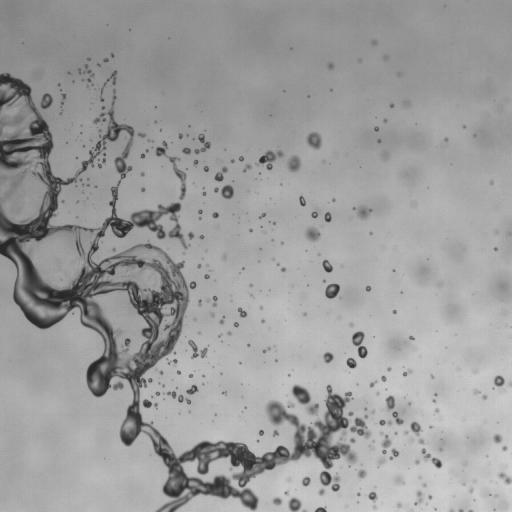droplet: (415, 448, 442, 468), (257, 150, 283, 170), (188, 340, 207, 358), (194, 134, 210, 153), (214, 185, 233, 198), (307, 132, 321, 149), (354, 206, 371, 219), (305, 227, 320, 241), (325, 283, 339, 298), (287, 155, 300, 171), (288, 497, 301, 511), (40, 93, 52, 108), (410, 421, 421, 436), (498, 472, 511, 484), (385, 395, 394, 410), (322, 260, 332, 272), (414, 491, 423, 504), (323, 352, 333, 363), (346, 357, 356, 368), (494, 375, 504, 386), (389, 448, 399, 459), (186, 385, 198, 394), (237, 307, 246, 317), (394, 475, 404, 484), (493, 434, 502, 443), (357, 469, 366, 478), (368, 492, 377, 501), (377, 456, 385, 466), (302, 476, 310, 486), (272, 497, 282, 505), (324, 212, 331, 222), (97, 159, 105, 167), (299, 196, 305, 206), (182, 147, 190, 154), (243, 164, 251, 171), (311, 210, 318, 217), (168, 359, 177, 364), (369, 381, 376, 387), (418, 437, 424, 444), (318, 488, 324, 495), (0, 175, 6, 181), (212, 212, 218, 218), (188, 232, 193, 239), (328, 63, 333, 69), (61, 92, 66, 98), (383, 152, 388, 158), (259, 213, 265, 218), (381, 375, 386, 381), (473, 389, 479, 394), (273, 430, 278, 436), (350, 438, 355, 443), (502, 446, 507, 451), (139, 133, 145, 137), (220, 317, 224, 323), (259, 429, 263, 435), (103, 58, 108, 62), (87, 78, 91, 83), (374, 126, 378, 131), (239, 156, 243, 161), (193, 160, 197, 165), (204, 166, 208, 171), (198, 209, 202, 214), (204, 274, 209, 278), (366, 286, 370, 291), (348, 411, 353, 415), (469, 487, 473, 492), (397, 502, 401, 507), (372, 40, 376, 44), (178, 134, 182, 138), (222, 255, 226, 259), (281, 267, 285, 271), (234, 322, 238, 326), (349, 323, 353, 327), (227, 331, 231, 335), (482, 395, 486, 399), (404, 430, 408, 434), (422, 483, 426, 487), (141, 153, 144, 158), (198, 300, 201, 305), (444, 137, 447, 141), (141, 172, 144, 176), (141, 188, 145, 191), (199, 235, 203, 238), (197, 264, 201, 267), (211, 312, 214, 316), (189, 373, 192, 377), (156, 392, 159, 396), (435, 408, 438, 412), (371, 410, 375, 413), (438, 448, 442, 451), (285, 491, 288, 495), (373, 505, 376, 509), (409, 439, 414, 441), (458, 509, 463, 511), (468, 509, 473, 511), (390, 104, 393, 107), (383, 119, 386, 122), (393, 310, 396, 313), (303, 312, 306, 315), (261, 319, 264, 322), (410, 336, 413, 339), (387, 367, 390, 370), (177, 371, 180, 374), (430, 375, 433, 378), (287, 478, 290, 481), (428, 495, 431, 498), (110, 54, 113, 56), (78, 70, 81, 72), (100, 98, 103, 100), (102, 106, 104, 109), (463, 125, 465, 128), (231, 159, 233, 162), (490, 181, 493, 183), (332, 199, 335, 201), (198, 217, 201, 219), (249, 229, 252, 231), (494, 247, 496, 250), (276, 263, 279, 265), (249, 284, 252, 286), (160, 371, 162, 374), (223, 391, 225, 394), (357, 493, 360, 495), (61, 102, 63, 104), (406, 103, 408, 105), (203, 193, 205, 195), (113, 248, 115, 250), (251, 295, 253, 297), (219, 334, 221, 336), (474, 371, 476, 373), (434, 393, 436, 395), (409, 403, 411, 405), (365, 408, 367, 410), (395, 432, 397, 434), (486, 494, 488, 496)
ligament: (0, 73, 371, 511), (155, 141, 186, 199), (291, 384, 319, 415), (0, 113, 25, 135), (352, 331, 367, 358), (166, 391, 190, 403), (102, 70, 117, 88), (381, 433, 391, 454), (214, 166, 227, 181), (392, 411, 403, 425), (85, 65, 94, 76), (379, 419, 392, 425), (403, 369, 411, 376), (315, 506, 326, 511), (212, 296, 217, 306), (262, 348, 269, 353), (509, 381, 511, 387), (448, 509, 454, 511), (302, 509, 307, 511), (409, 510, 413, 511)
